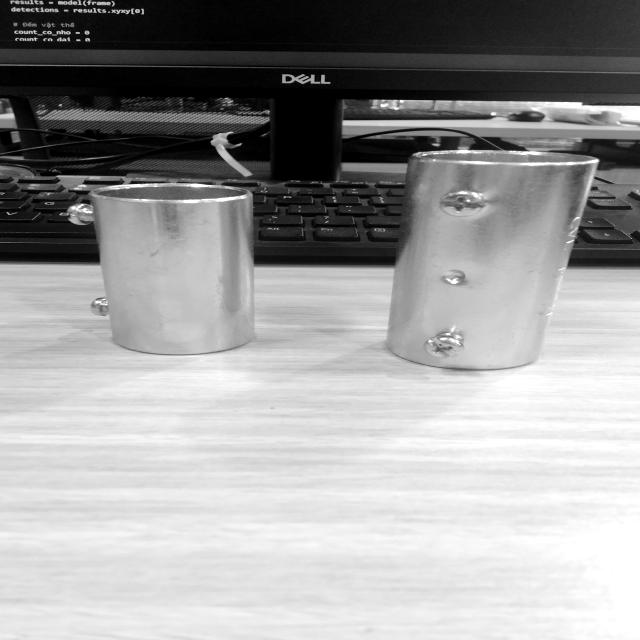Co_Lon: (384, 136, 599, 383)
Co_Nho: (72, 182, 254, 355)
